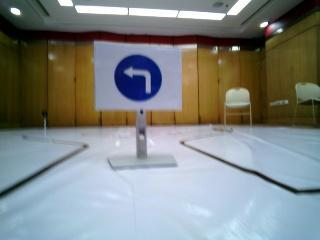left: (97, 45, 179, 106)
